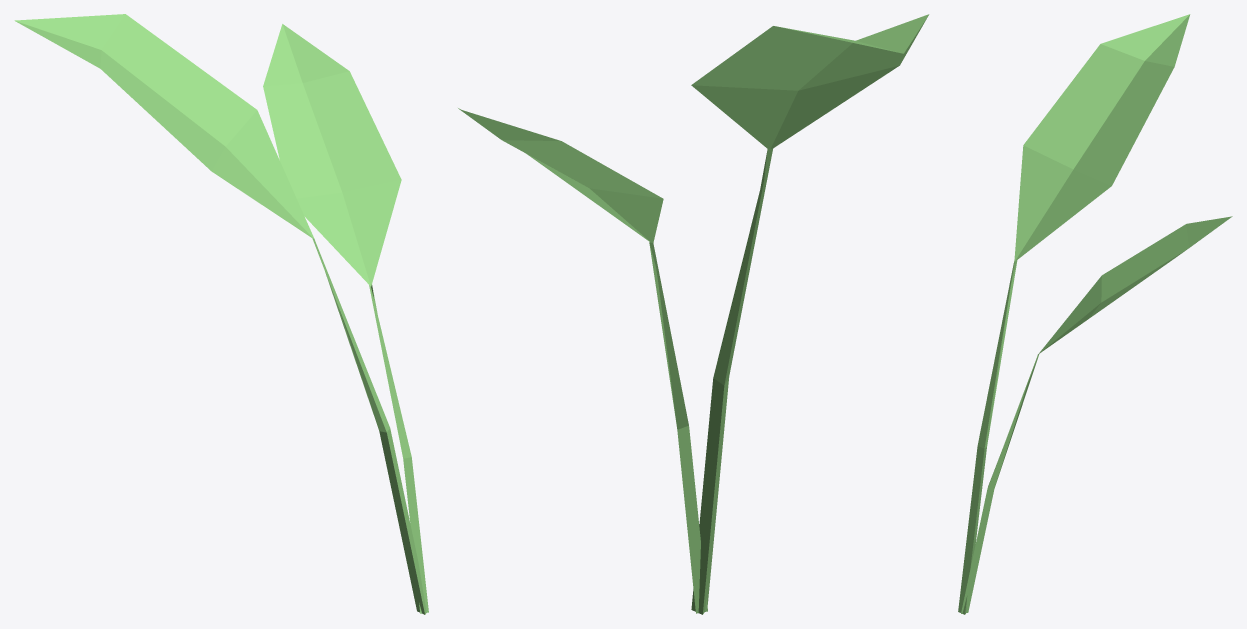
Rendered from Plant_j_OneS_02.fbx.
3 renders of one model, left to right at view 1: azimuth 30°, elevation 25°; view 2: azimuth 150°, elevation 25°; view 3: azimuth 270°, elevation 25°, orthographic. The views are drawn at different scales.
Visible parts, largest first — view 1: Plant_j_OneS_02; view 2: Plant_j_OneS_02; view 3: Plant_j_OneS_02.
Part boxes in pixels (x1=…): Plant_j_OneS_02: x1=14, y1=14, x2=428, y2=614; Plant_j_OneS_02: x1=458, y1=14, x2=929, y2=614; Plant_j_OneS_02: x1=958, y1=14, x2=1232, y2=614.
Bounding box in the file's own units: 30.07 × 49.25 × 25.42.
